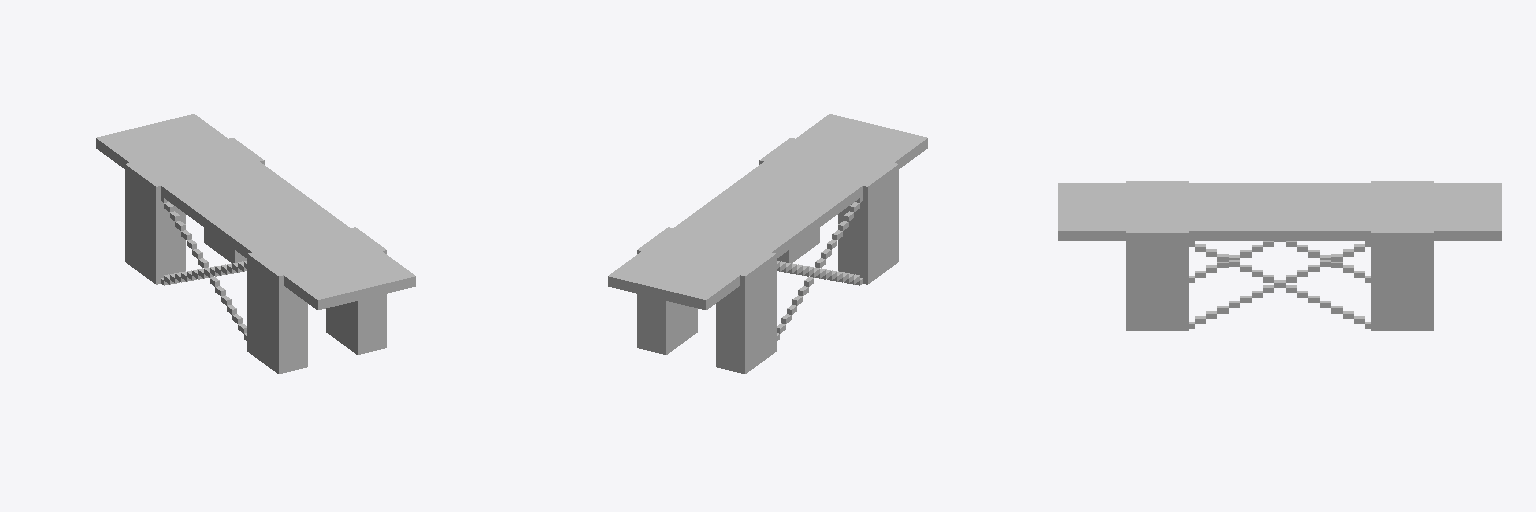
Rendered from Bridge.obj.
3 views of the same model, side by side, from view 1: azimuth 30°, elevation 25°; view 2: azimuth 150°, elevation 25°; view 3: azimuth 270°, elevation 25° (orthographic).
Size of the model in its own units: 22 by 19 by 78.